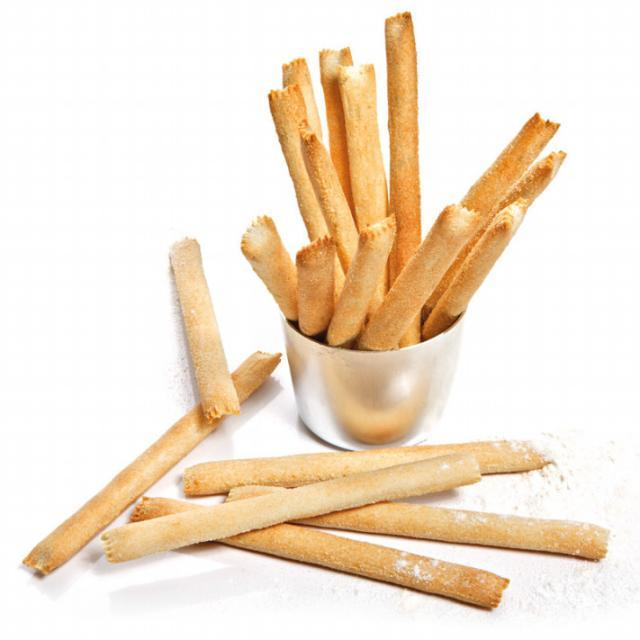Grissini: (240, 9, 564, 353), (98, 452, 616, 615), (168, 238, 250, 420)
